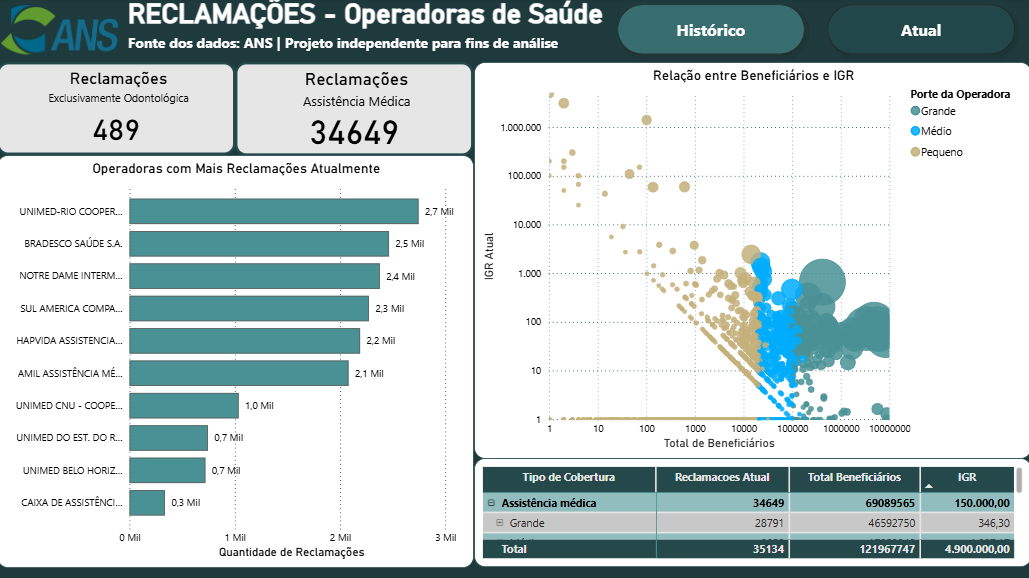

The dashboard page shown, as its layout file describes it:
{"tool":"powerbi","page":{"name":"Atual","canvas":[1280,720],"ordinal":1},"visuals":[{"type":"textbox","title":"RECLAMAÇÕES - Operadoras de Saúde","box":[157.1,1.3,1122.3,80.4],"z":0},{"type":"pivotTable","fields":{"Rows":["IGR.COBERTURA","IGR.PORTE_OPERADORA","IGR.RAZAO_SOCIAL"],"Values":["IGR.Reclamacoes Atual","IGR.Total Beneficiários Att","IGR.Último IGR"]},"box":[590.4,570.8,689.9,134.8],"z":1000},{"type":"scatterChart","title":"Relação entre Beneficiários e IGR","fields":{"Category":["IGR.RAZAO_SOCIAL"],"Series":["IGR.PORTE_OPERADORA"],"Size":["IGR.Reclamacoes Atual"],"X":["IGR.Total Beneficiários Att"],"Y":["IGR.Último IGR"]},"box":[590.4,79.9,689.9,490.9],"z":2000},{"type":"image","box":[0,0,157.2,80.8],"z":3000},{"type":"pageNavigator","box":[758.3,0,511.3,80.8],"z":4000},{"type":"card","title":"Reclamações","fields":{"Values":["IGR.Reclamacoes Atual"]},"box":[0,80.4,295,115.3],"z":5000},{"type":"card","title":"Reclamações","fields":{"Values":["IGR.Reclamacoes Atual"]},"box":[294.2,80.4,295,115.9],"z":6000},{"type":"clusteredBarChart","title":"Operadoras com Mais Reclamações Atualmente","fields":{"Category":["IGR.RAZAO_SOCIAL"],"Y":["IGR.Reclamacoes Atual"]},"box":[0,195.1,590.4,510.5],"z":7000}]}

Visuals, with their boxes in screenshot pixels (x1, y1, x2, y2), scaled from the page's 1280x720 canvas onto the 1029x578 screenshot:
"RECLAMAÇÕES - Operadoras de Saúde" textbox: left=126, top=1, right=1028, bottom=66
pivotTable - IGR.COBERTURA x IGR.PORTE_OPERADORA: left=475, top=458, right=1028, bottom=566
"Relação entre Beneficiários e IGR" scatterChart: left=475, top=64, right=1028, bottom=458
image: left=0, top=0, right=126, bottom=65
pageNavigator: left=610, top=0, right=1021, bottom=65
"Reclamações" card: left=0, top=65, right=237, bottom=157
"Reclamações" card: left=237, top=65, right=474, bottom=158
"Operadoras com Mais Reclamações Atualmente" clusteredBarChart: left=0, top=157, right=475, bottom=566
